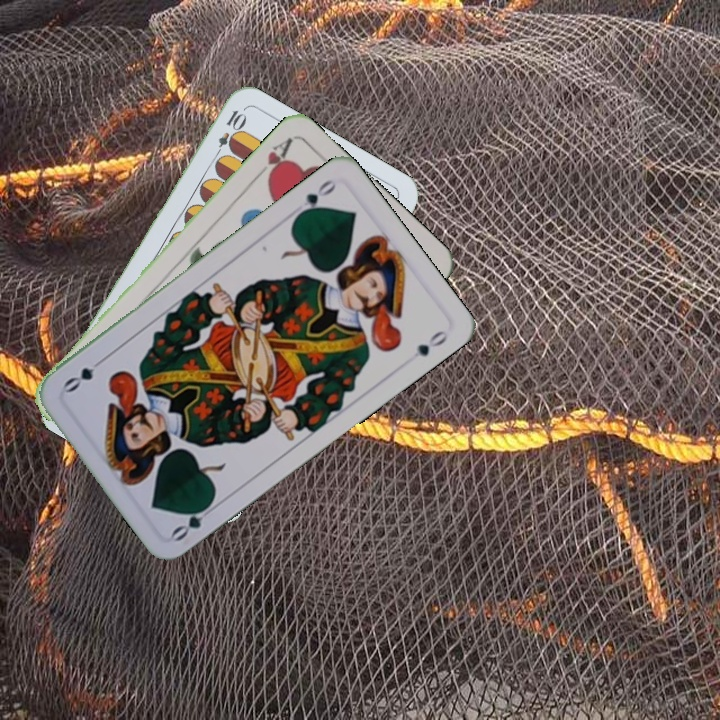E10: (210, 106, 247, 162)
GO: (167, 497, 220, 544), (292, 175, 339, 221)
HA: (250, 133, 295, 184)
